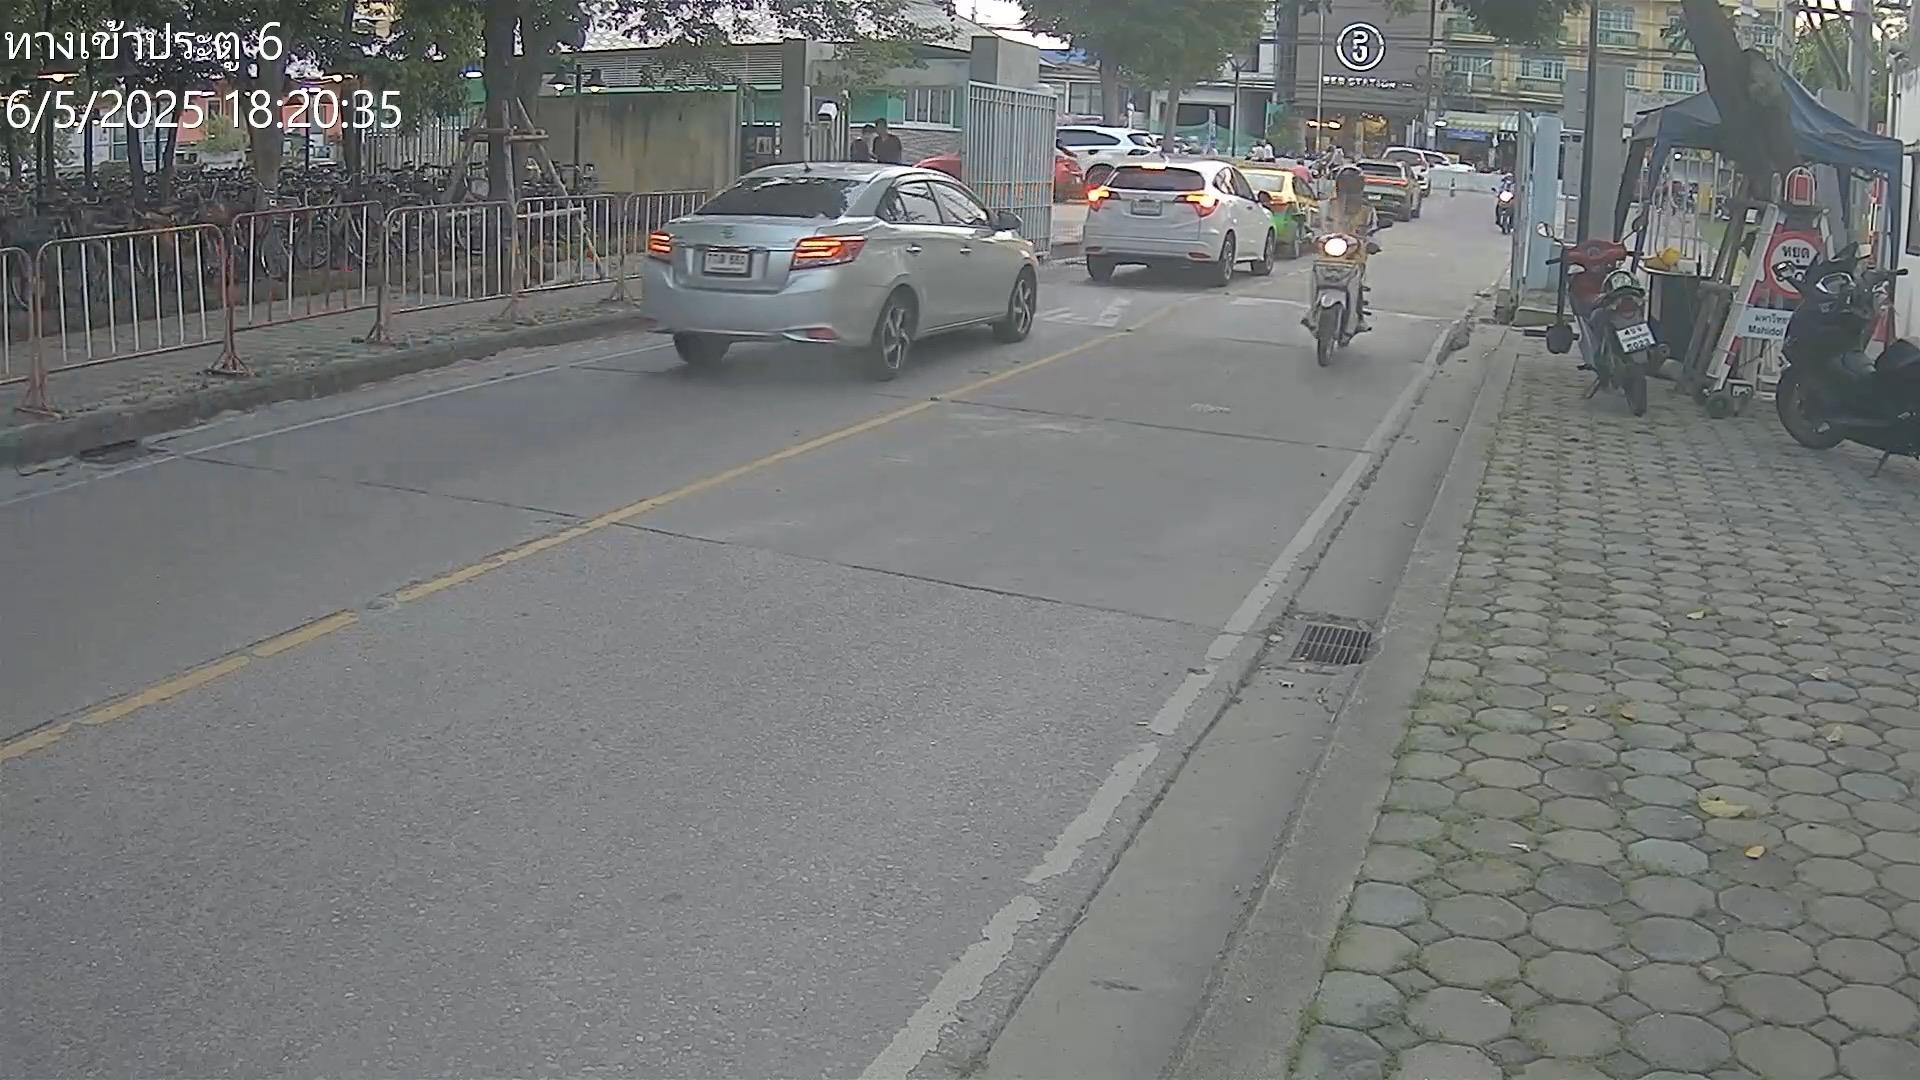With-Helmet: (1335, 165, 1366, 200)
